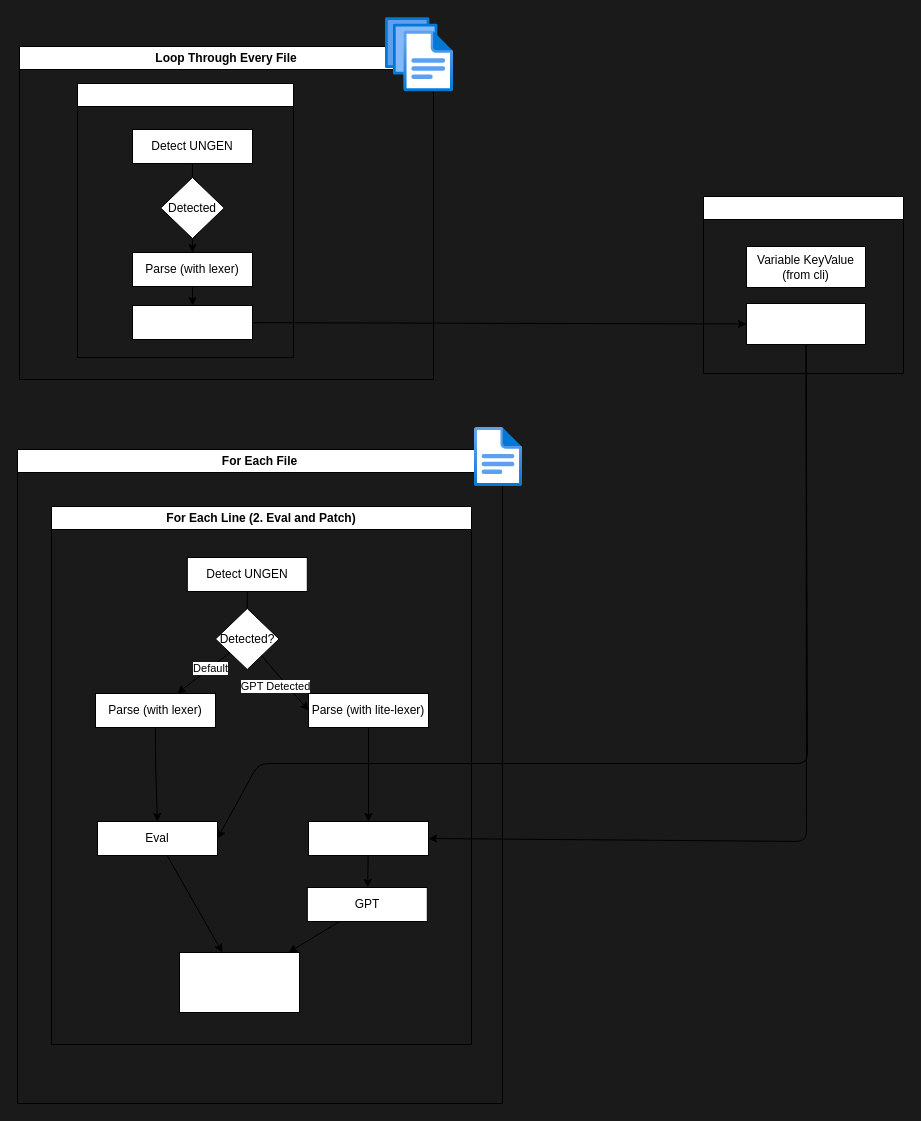
The diagram is 921 pixels wide and 1121 high, and some of its shapes have lost their labels. Each missing label, with the box of its shape:
1. Gather: (76, 82, 294, 358)
Clipboard Map: (746, 302, 866, 344)
Context: (702, 196, 904, 374)
Gather: (132, 304, 252, 340)
LiteEval (sub cb and var): (308, 820, 428, 856)
Patch (writes to same file): (178, 952, 300, 1012)
